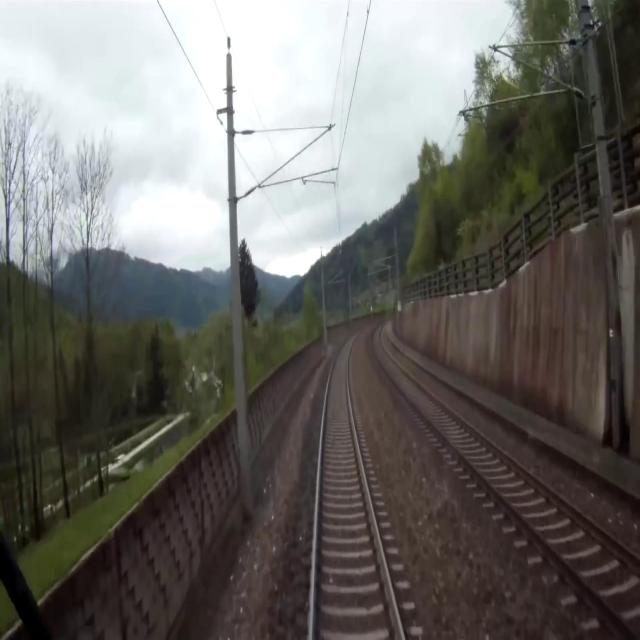rail-track: (374, 328, 640, 632), (314, 338, 401, 639)
